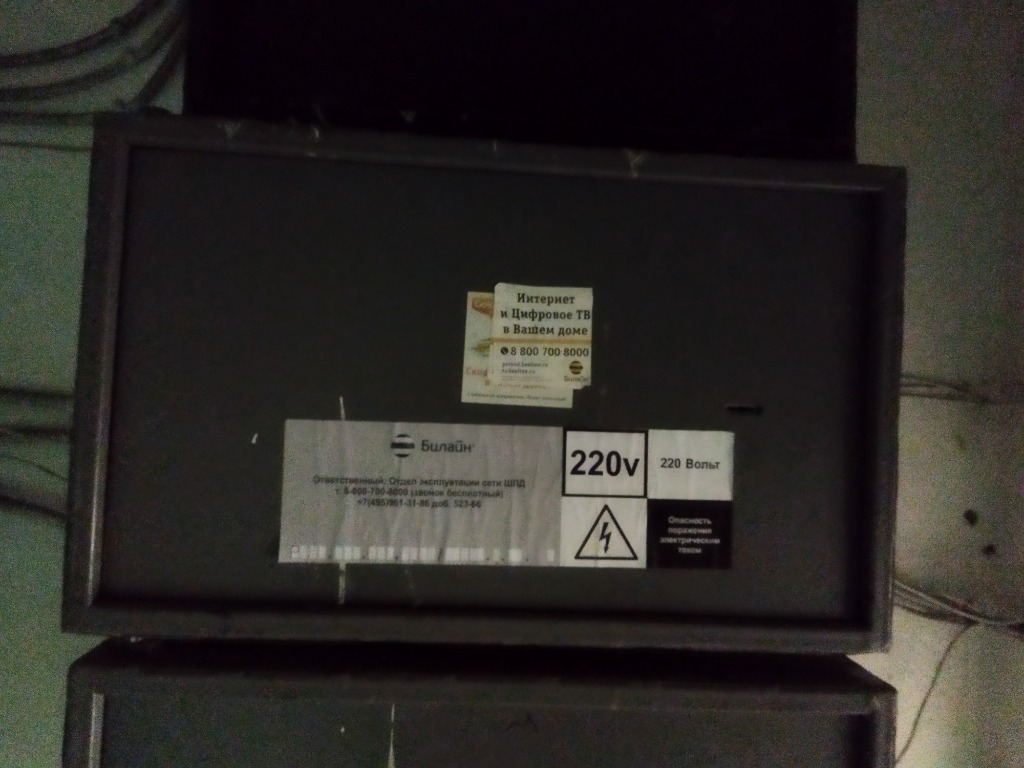e2-6u: (56, 103, 912, 653)
